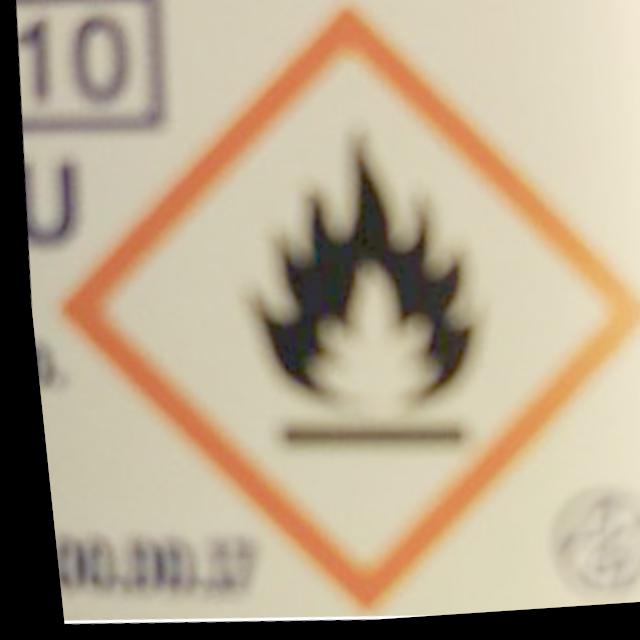flammable: (219, 121, 500, 465)
